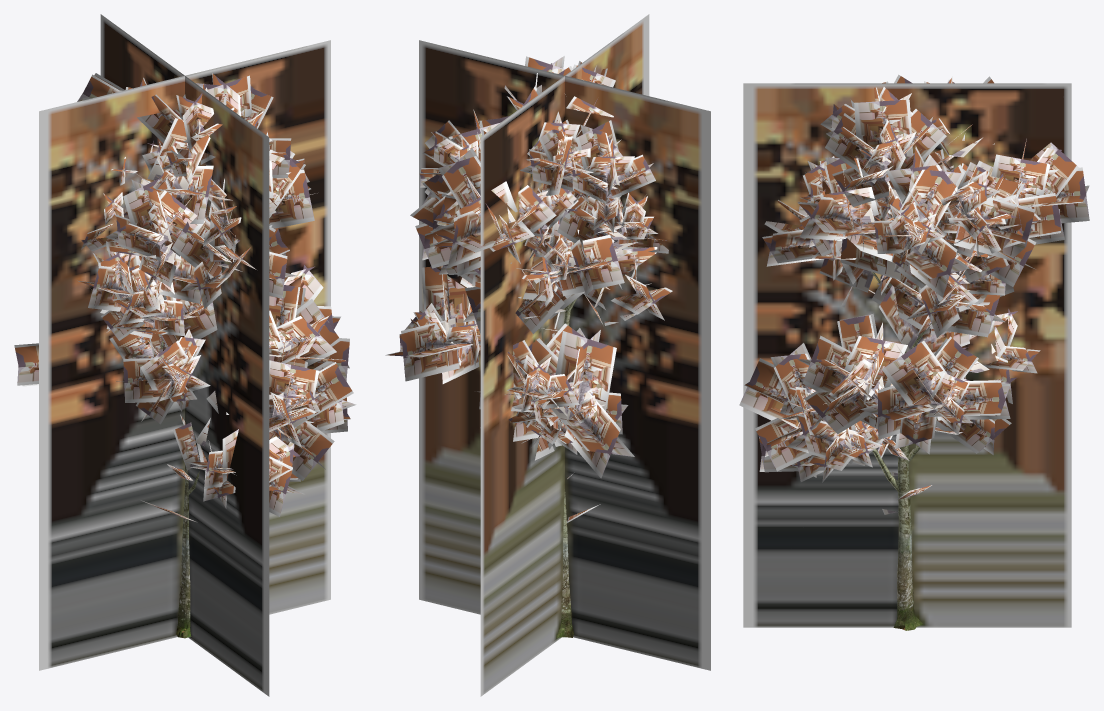
File: Tree-Beech1D.fbx
3 renders of one model, left to right at view 1: azimuth 30°, elevation 25°; view 2: azimuth 150°, elevation 25°; view 3: azimuth 270°, elevation 25°, orthographic. The views are drawn at different scales.
Parts seen in each view (by area): view 1: Billboard-BeechD, Tree-Beech1D_LOD0; view 2: Billboard-BeechD, Tree-Beech1D_LOD0; view 3: Billboard-BeechD, Tree-Beech1D_LOD0.
Boxes of the visible parts, x1=… form: Billboard-BeechD: x1=39, y1=14, x2=330, y2=696; Tree-Beech1D_LOD0: x1=14, y1=73, x2=356, y2=638; Billboard-BeechD: x1=419, y1=14, x2=710, y2=696; Tree-Beech1D_LOD0: x1=385, y1=56, x2=672, y2=637; Billboard-BeechD: x1=743, y1=83, x2=1071, y2=627; Tree-Beech1D_LOD0: x1=739, y1=74, x2=1089, y2=630.
Size of what is drawn, in the model's own units: 1305 by 2354 by 1374.
